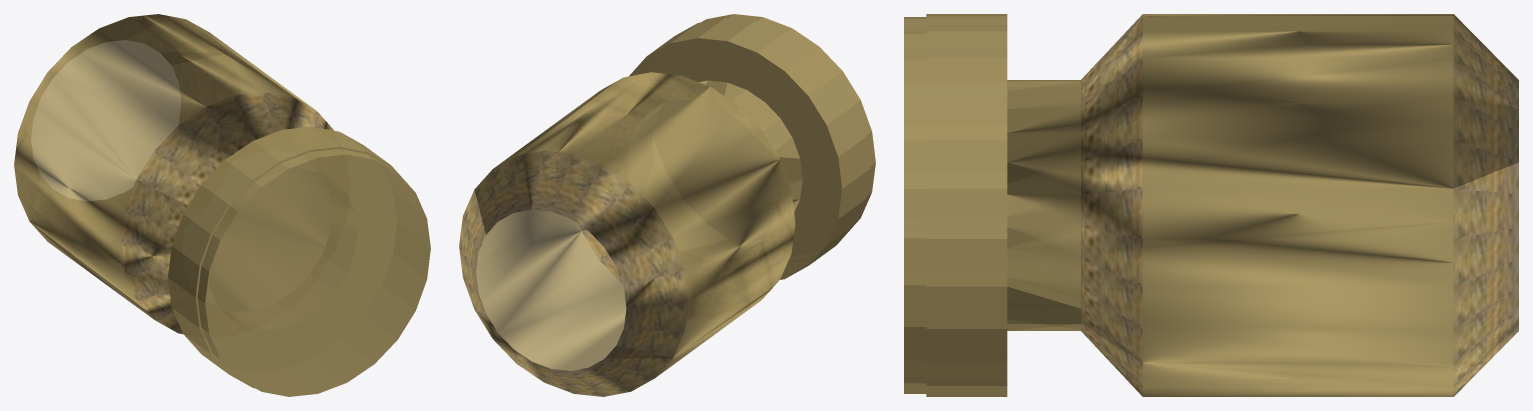
Rendered from model_align.obj.
3 views of the same model, side by side, from view 1: azimuth 30°, elevation 25°; view 2: azimuth 150°, elevation 25°; view 3: azimuth 270°, elevation 25° (orthographic). The views are drawn at different scales.
Bounding box in the file's own units: 0.1414 × 0.1414 × 0.2261.
